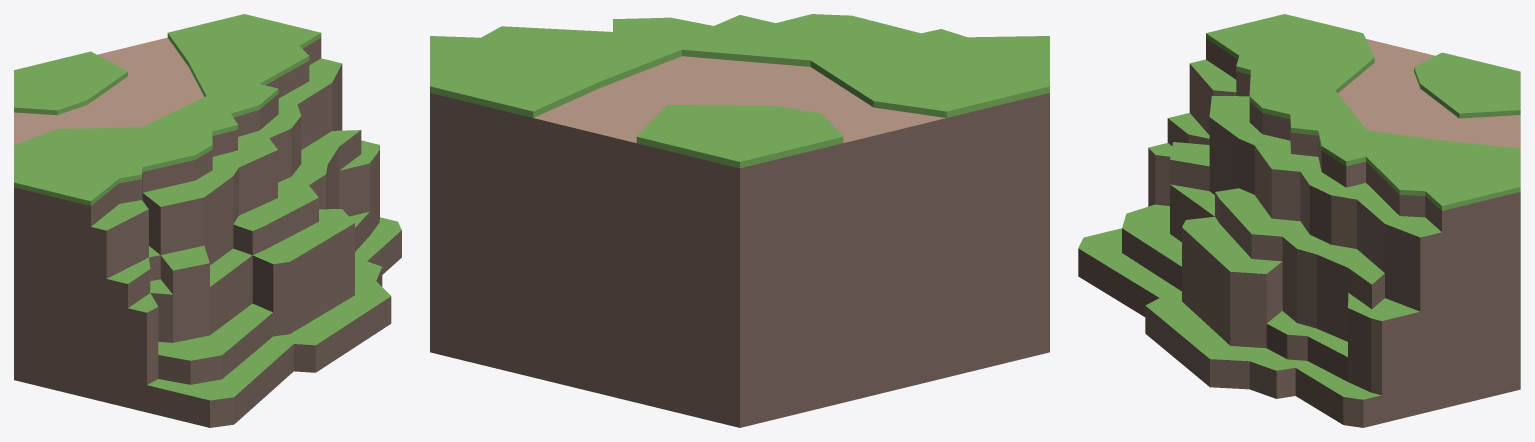
The model's file is tile_Cliff03.fbx.
3 views of the same model, side by side, from view 1: azimuth 30°, elevation 25°; view 2: azimuth 150°, elevation 25°; view 3: azimuth 270°, elevation 25° (orthographic). The views are drawn at different scales.
Parts seen in each view (by area): view 1: pCylinder38; view 2: pCylinder38; view 3: pCylinder38.
Boxes of the visible parts, x1,y1,x2,y2 form: pCylinder38: (14,14,401,427); pCylinder38: (430,14,1049,427); pCylinder38: (1078,14,1520,427).
Bounding box in the file's own units: 1.83 × 0.82 × 1.62.
